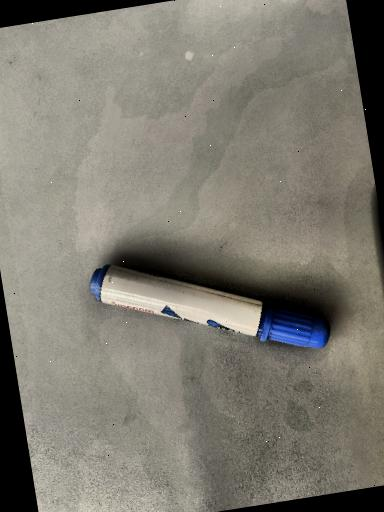marcador azul: (90, 264, 329, 348)
